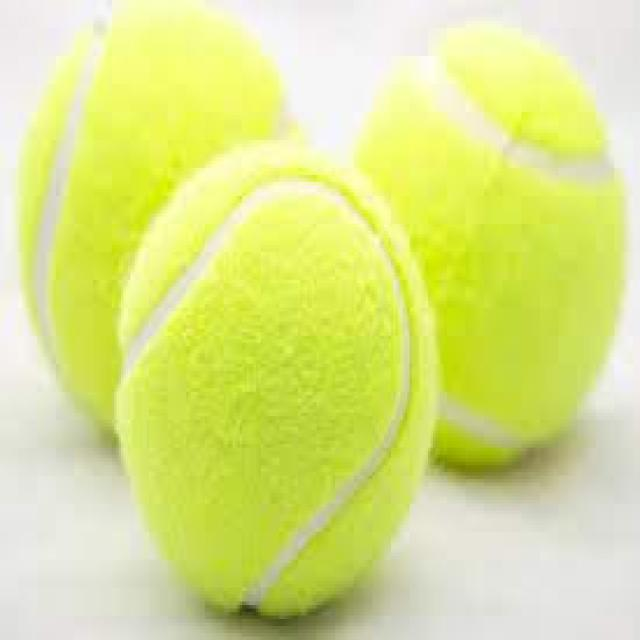ball: (110, 137, 442, 624)
